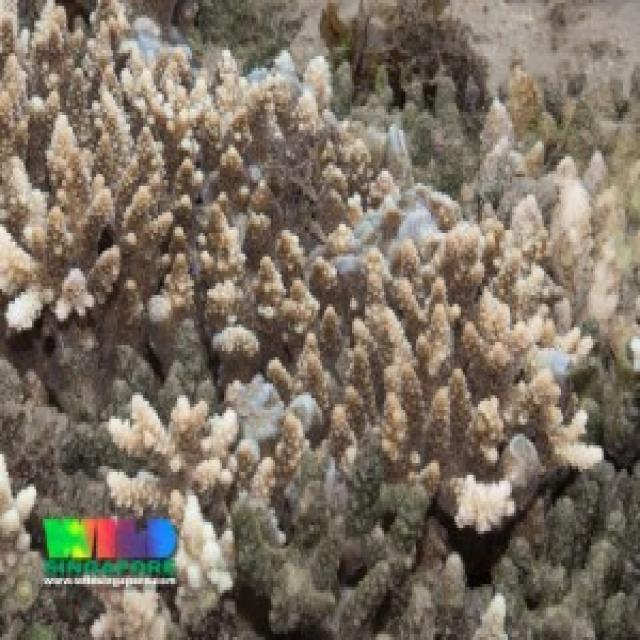Bleached: (1, 1, 639, 469)
Healthy: (239, 473, 439, 640), (529, 489, 640, 640)
